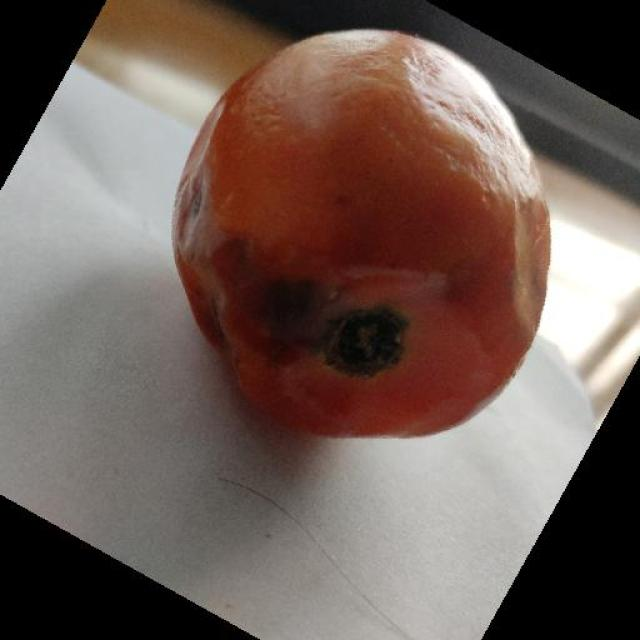Stale_tomato: (114, 27, 478, 426)
